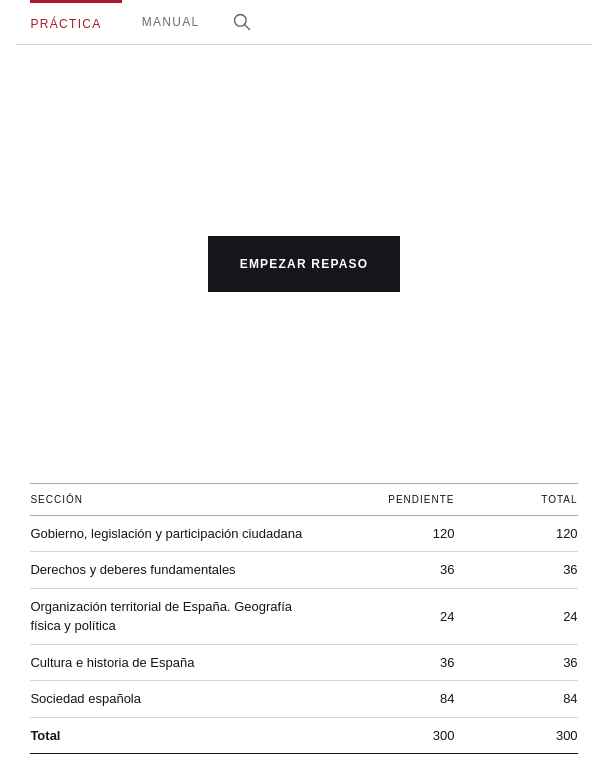
Test: App › starts a stable session from the resting screen
The image size is (609, 768).
Click the button "Empezar repaso" at (304, 264), box left=208, top=236, right=400, bottom=292
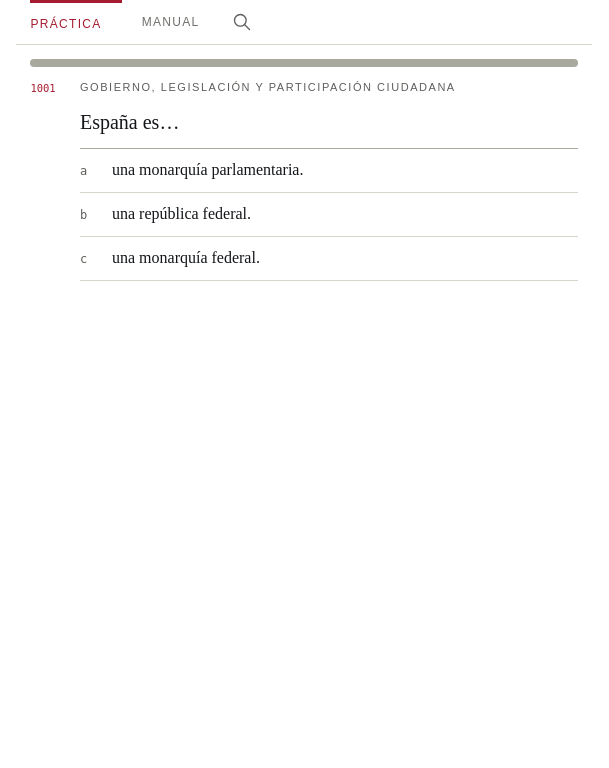
Expected: the text "España es…" is shown, left=80, top=111, right=179, bottom=133
Expected: the button "a una monarquía parlamentaria." is shown, left=80, top=149, right=578, bottom=193
Expected: the button "b una república federal." is shown, left=80, top=193, right=578, bottom=237
